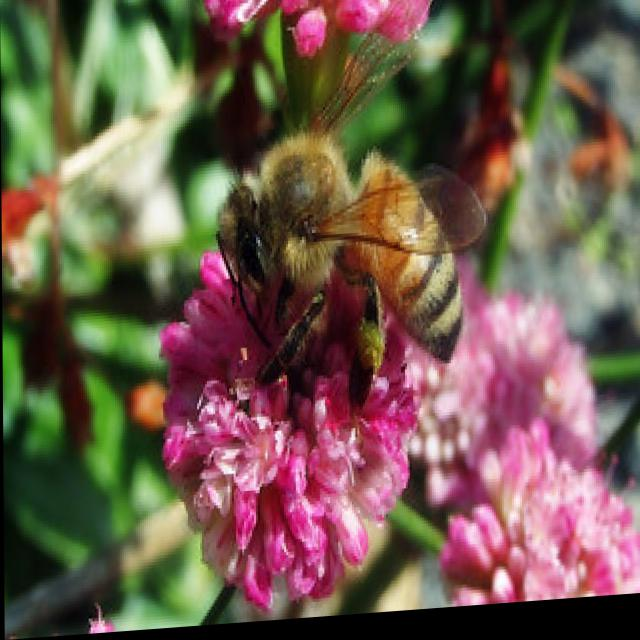Abeille: (190, 16, 504, 417)
